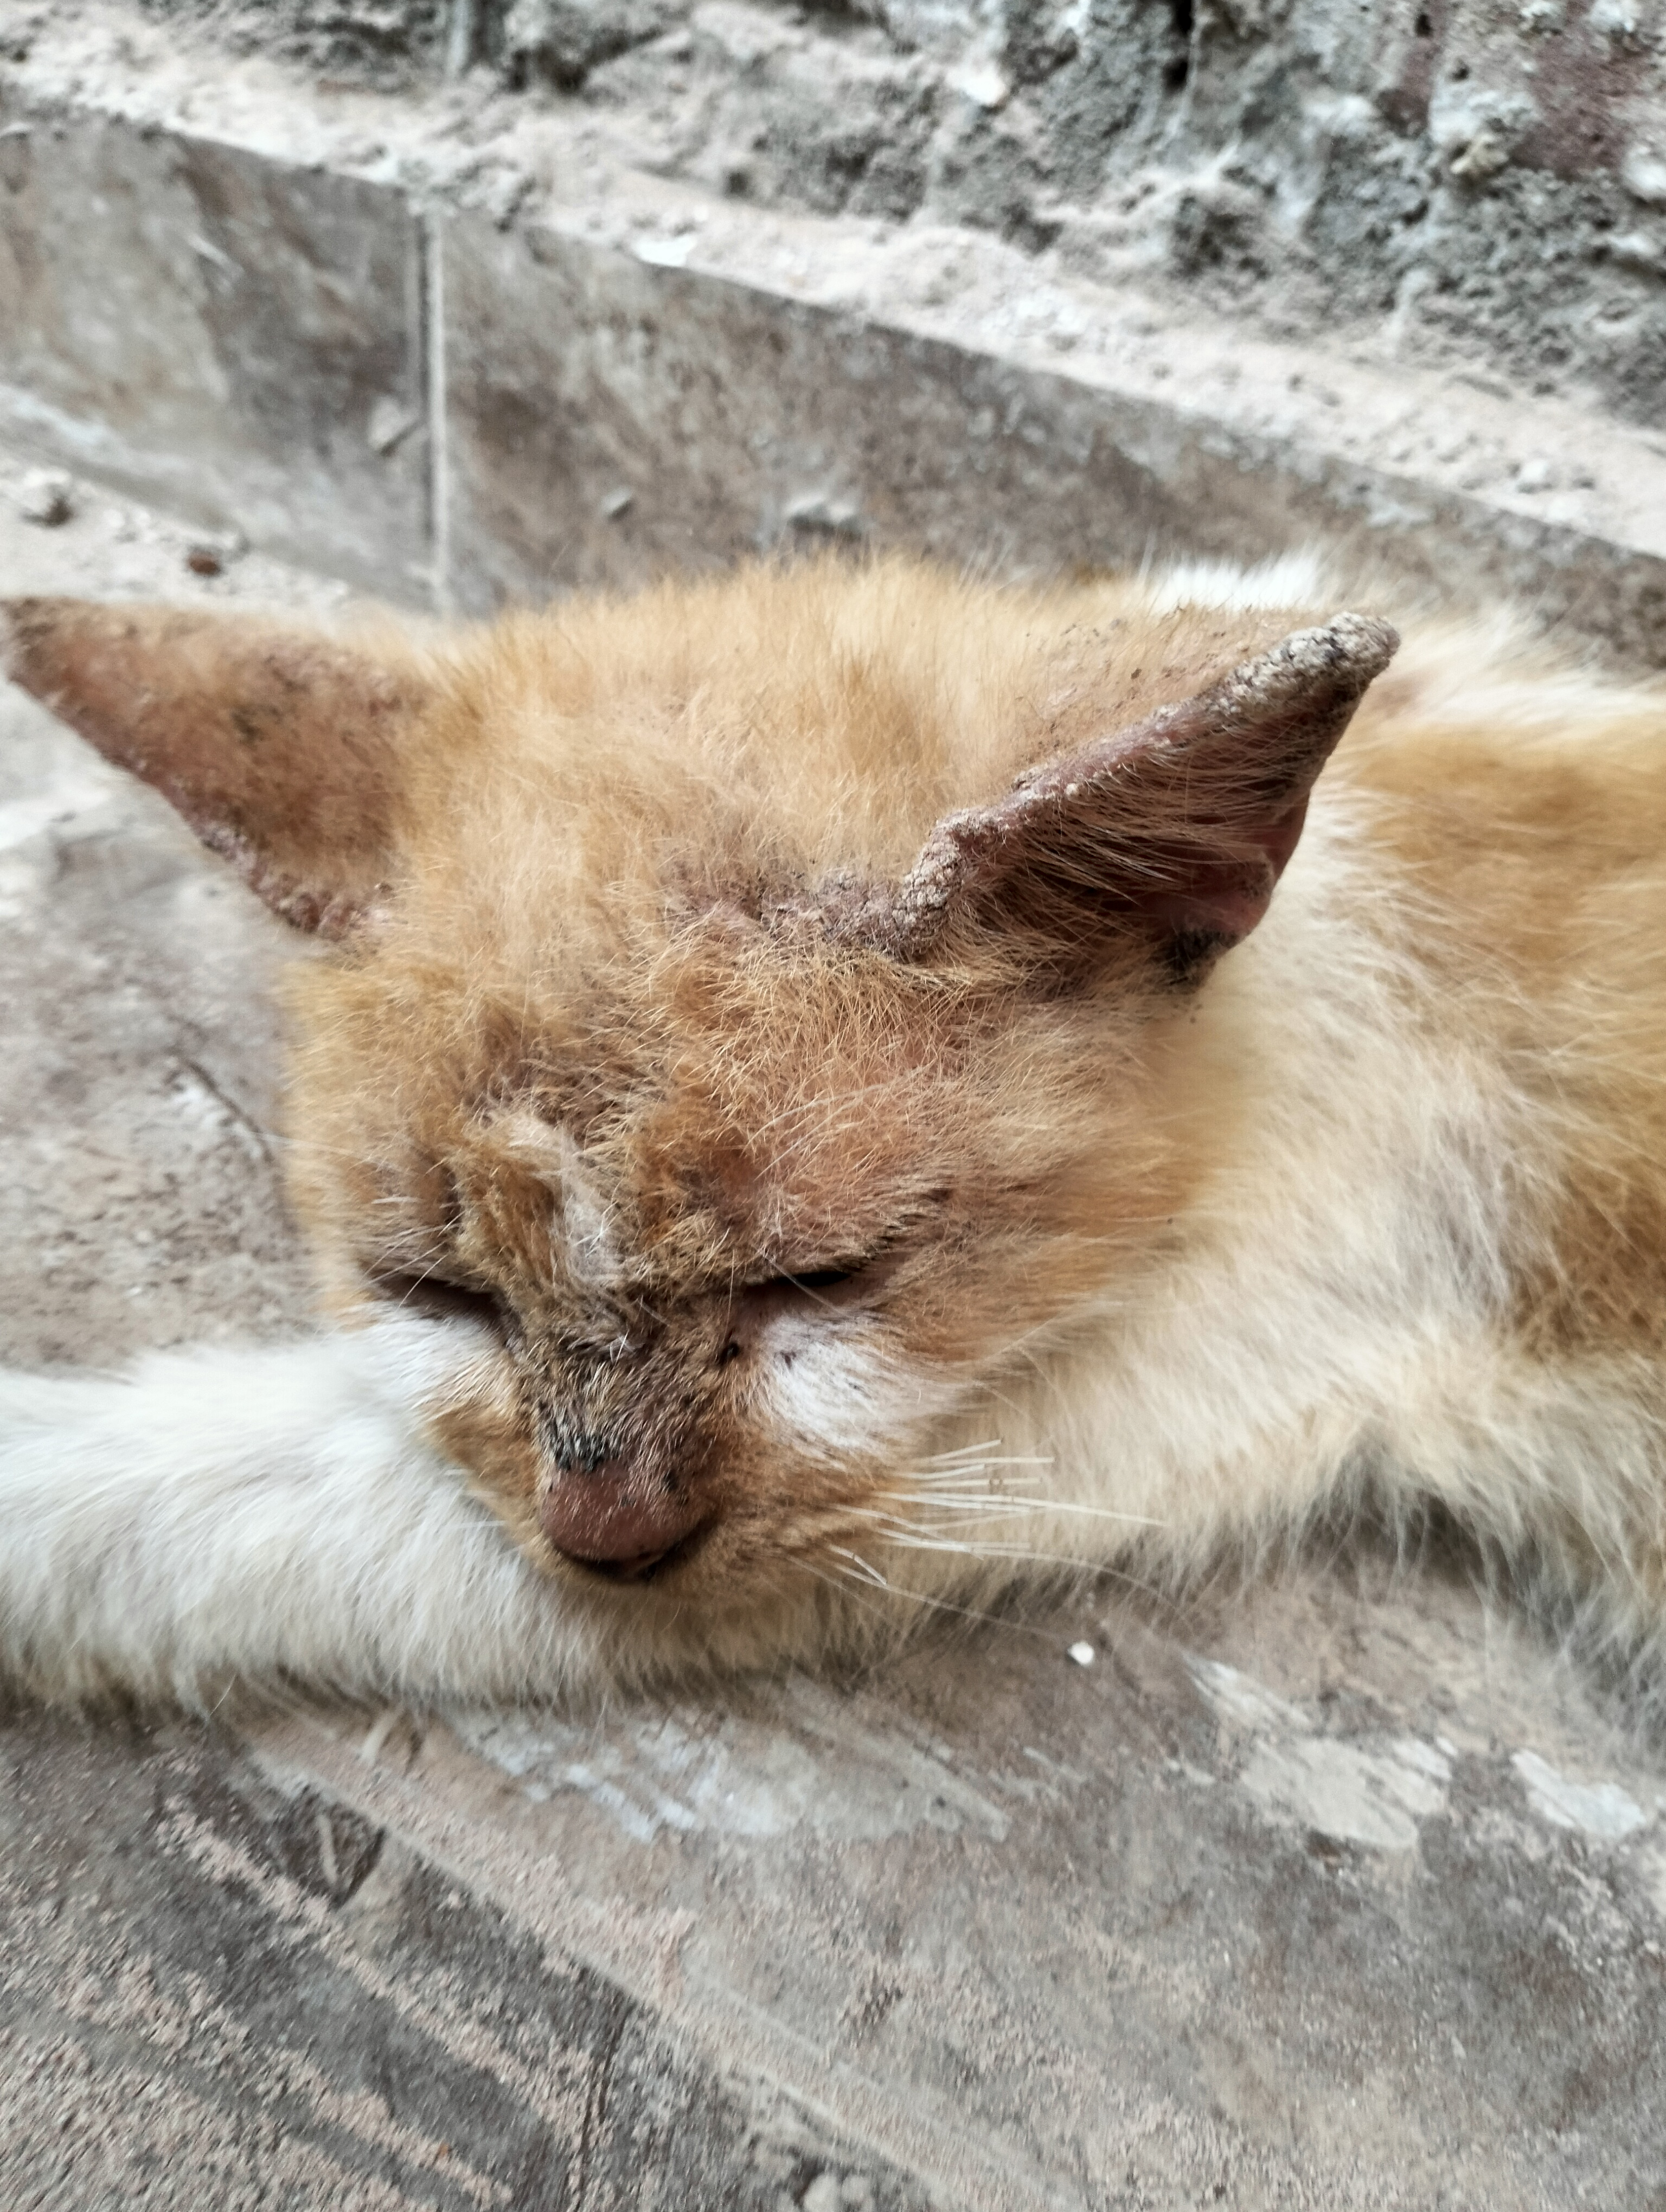cemong: (11, 535, 1388, 1757)
